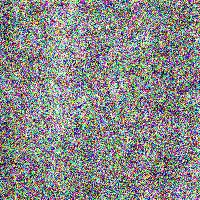crazing: (87, 3, 196, 134), (3, 1, 67, 149), (3, 1, 141, 45)
inclusion: (79, 91, 195, 125)
